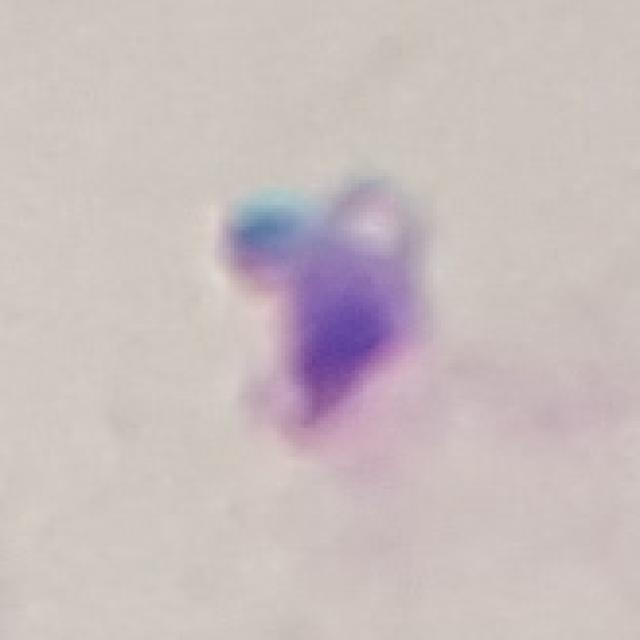non-sperm: (200, 173, 462, 439)
